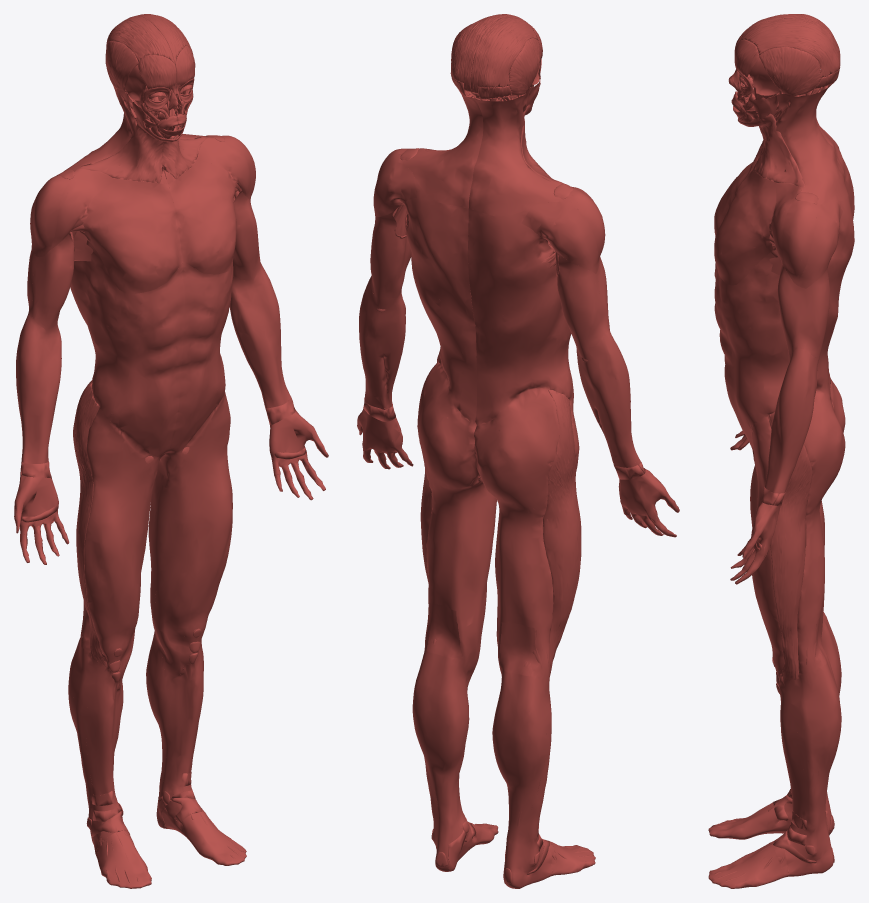
Rendered from muscles.glb.
The picture shows the model from 3 angles, left to right: view 1: azimuth 30°, elevation 25°; view 2: azimuth 150°, elevation 25°; view 3: azimuth 270°, elevation 25°; orthographic projection. The views are drawn at different scales.
Visible parts, largest first — view 1: Investing abdominal fascia.r, Fascia lata.l, Fascia lata.r, Crural fascia.l, Crural fascia.r, Pectoral fascia.r, Investing abdominal fascia.l, Pectoral fascia.l, Antebrachial fascia.r, Antebrachial fascia.l, Deltoid fascia.r, Brachial fascia.r (+13 smaller); view 2: Investing abdominal fascia.r, Fascia lata.r, Fascia lata.l, Crural fascia.r, Investing abdominal fascia.l, Crural fascia.l, Superficial investing cervical fascia.r, Iliotibial tract.r, Antebrachial fascia.r, Antebrachial fascia.l, Deltoid fascia.r, Superficial investing cervical fascia.l (+11 smaller); view 3: Investing abdominal fascia.l, Crural fascia.l, Fascia lata.l, Iliotibial tract.l, Deltoid fascia.l, Pectoral fascia.l, Superficial investing cervical fascia.l, Antebrachial fascia.l, Brachial fascia.l, Epicranial aponeurosis.l, Crural fascia.r, Temporoparietalis muscle.l (+13 smaller).
Part boxes in pixels (box(x1,y1,x2,y2)): Investing abdominal fascia.r: box(70, 239, 184, 456); Fascia lata.l: box(148, 391, 232, 637); Fascia lata.r: box(73, 389, 165, 658); Crural fascia.l: box(146, 621, 246, 865); Crural fascia.r: box(68, 638, 151, 888); Pectoral fascia.r: box(78, 178, 182, 294); Investing abdominal fascia.l: box(167, 262, 233, 452); Pectoral fascia.l: box(168, 158, 237, 274); Antebrachial fascia.r: box(16, 315, 61, 463); Antebrachial fascia.l: box(230, 263, 291, 408); Deltoid fascia.r: box(30, 169, 113, 257); Brachial fascia.r: box(27, 232, 74, 329); Investing abdominal fascia.r: box(467, 206, 573, 425); Fascia lata.r: box(474, 389, 581, 676); Fascia lata.l: box(417, 363, 496, 656); Crural fascia.r: box(492, 665, 595, 888); Investing abdominal fascia.l: box(400, 177, 476, 424); Crural fascia.l: box(412, 648, 498, 871); Superficial investing cervical fascia.r: box(469, 86, 566, 216); Iliotibial tract.r: box(543, 390, 581, 676); Antebrachial fascia.r: box(575, 329, 641, 467); Antebrachial fascia.l: box(359, 276, 405, 409); Deltoid fascia.r: box(521, 173, 605, 273); Superficial investing cervical fascia.l: box(399, 90, 483, 208); Investing abdominal fascia.l: box(714, 193, 854, 447); Crural fascia.l: box(708, 656, 841, 888); Fascia lata.l: box(751, 388, 845, 673); Iliotibial tract.l: box(768, 412, 812, 682); Deltoid fascia.l: box(771, 182, 843, 288); Pectoral fascia.l: box(714, 171, 776, 285); Superficial investing cervical fascia.l: box(752, 82, 848, 205); Antebrachial fascia.l: box(764, 348, 820, 493); Brachial fascia.l: box(777, 260, 829, 357); Epicranial aponeurosis.l: box(738, 18, 840, 78); Crural fascia.r: box(708, 617, 841, 839); Temporoparietalis muscle.l: box(759, 46, 821, 96).
Bounding box in the file's own units: 0.6715 × 1.7 × 0.2685.
